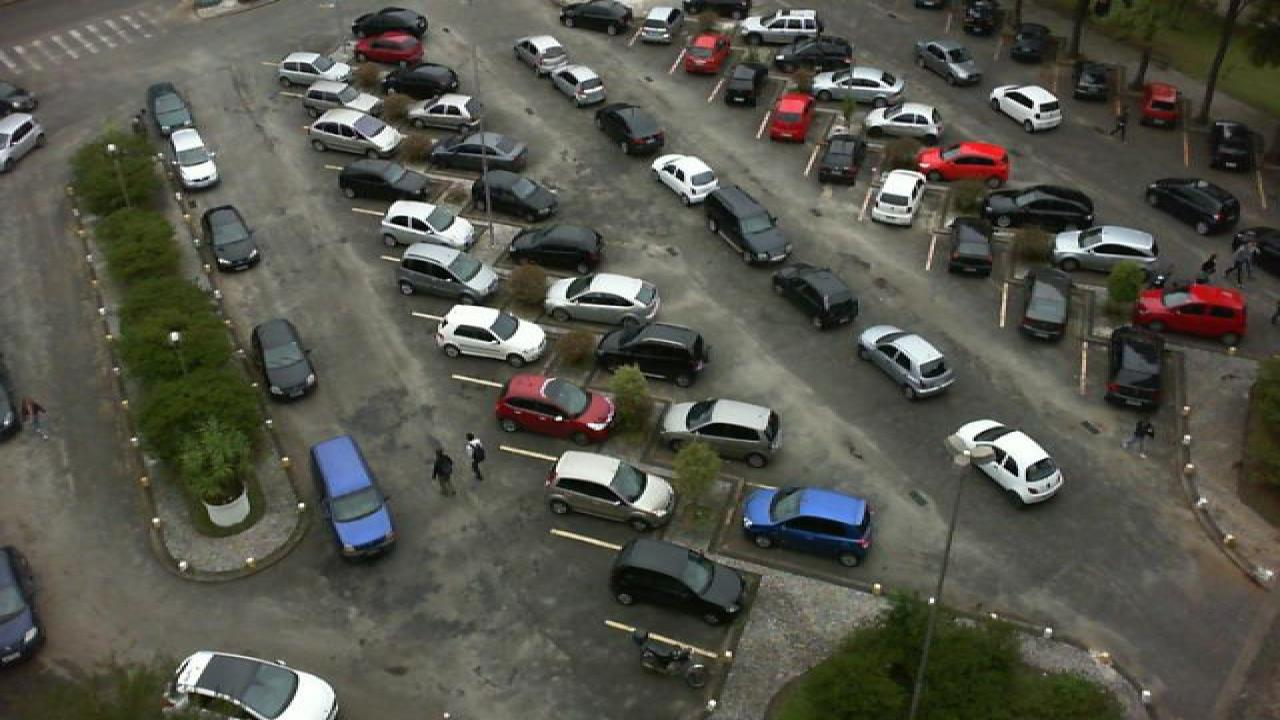Car: (610, 536, 748, 631), (162, 650, 340, 720), (310, 434, 396, 564), (742, 484, 876, 567), (544, 449, 678, 531), (948, 418, 1068, 507), (492, 373, 620, 444), (656, 397, 780, 470), (856, 324, 956, 402), (1134, 282, 1254, 346), (598, 323, 714, 389), (540, 271, 664, 329), (704, 185, 792, 266), (436, 304, 552, 364), (392, 244, 504, 306), (770, 262, 860, 331), (1144, 176, 1244, 238), (986, 181, 1098, 233), (250, 318, 318, 403), (1104, 325, 1166, 413), (378, 198, 478, 251), (1052, 225, 1164, 272), (504, 222, 604, 274), (464, 171, 560, 224), (306, 107, 406, 156), (912, 138, 1014, 184), (334, 158, 434, 204), (430, 130, 528, 174), (200, 205, 262, 273), (1016, 270, 1072, 344), (594, 102, 668, 158), (812, 64, 906, 107), (648, 153, 722, 205), (988, 83, 1064, 133), (910, 38, 984, 88), (166, 126, 222, 191), (862, 101, 944, 143), (944, 216, 998, 278), (274, 50, 364, 86), (868, 169, 924, 226), (144, 80, 196, 137), (380, 62, 462, 98), (738, 9, 820, 44), (412, 94, 486, 132), (546, 64, 608, 109), (766, 90, 816, 145), (348, 30, 424, 66), (558, 0, 636, 35), (0, 111, 44, 170), (784, 35, 854, 72), (302, 81, 376, 115), (816, 135, 864, 187), (1206, 119, 1254, 171), (352, 7, 432, 38), (510, 34, 572, 74), (680, 32, 730, 76), (718, 62, 764, 108), (1138, 81, 1182, 128), (1070, 58, 1112, 102), (1008, 21, 1050, 63), (636, 7, 676, 46), (962, 0, 998, 37)
